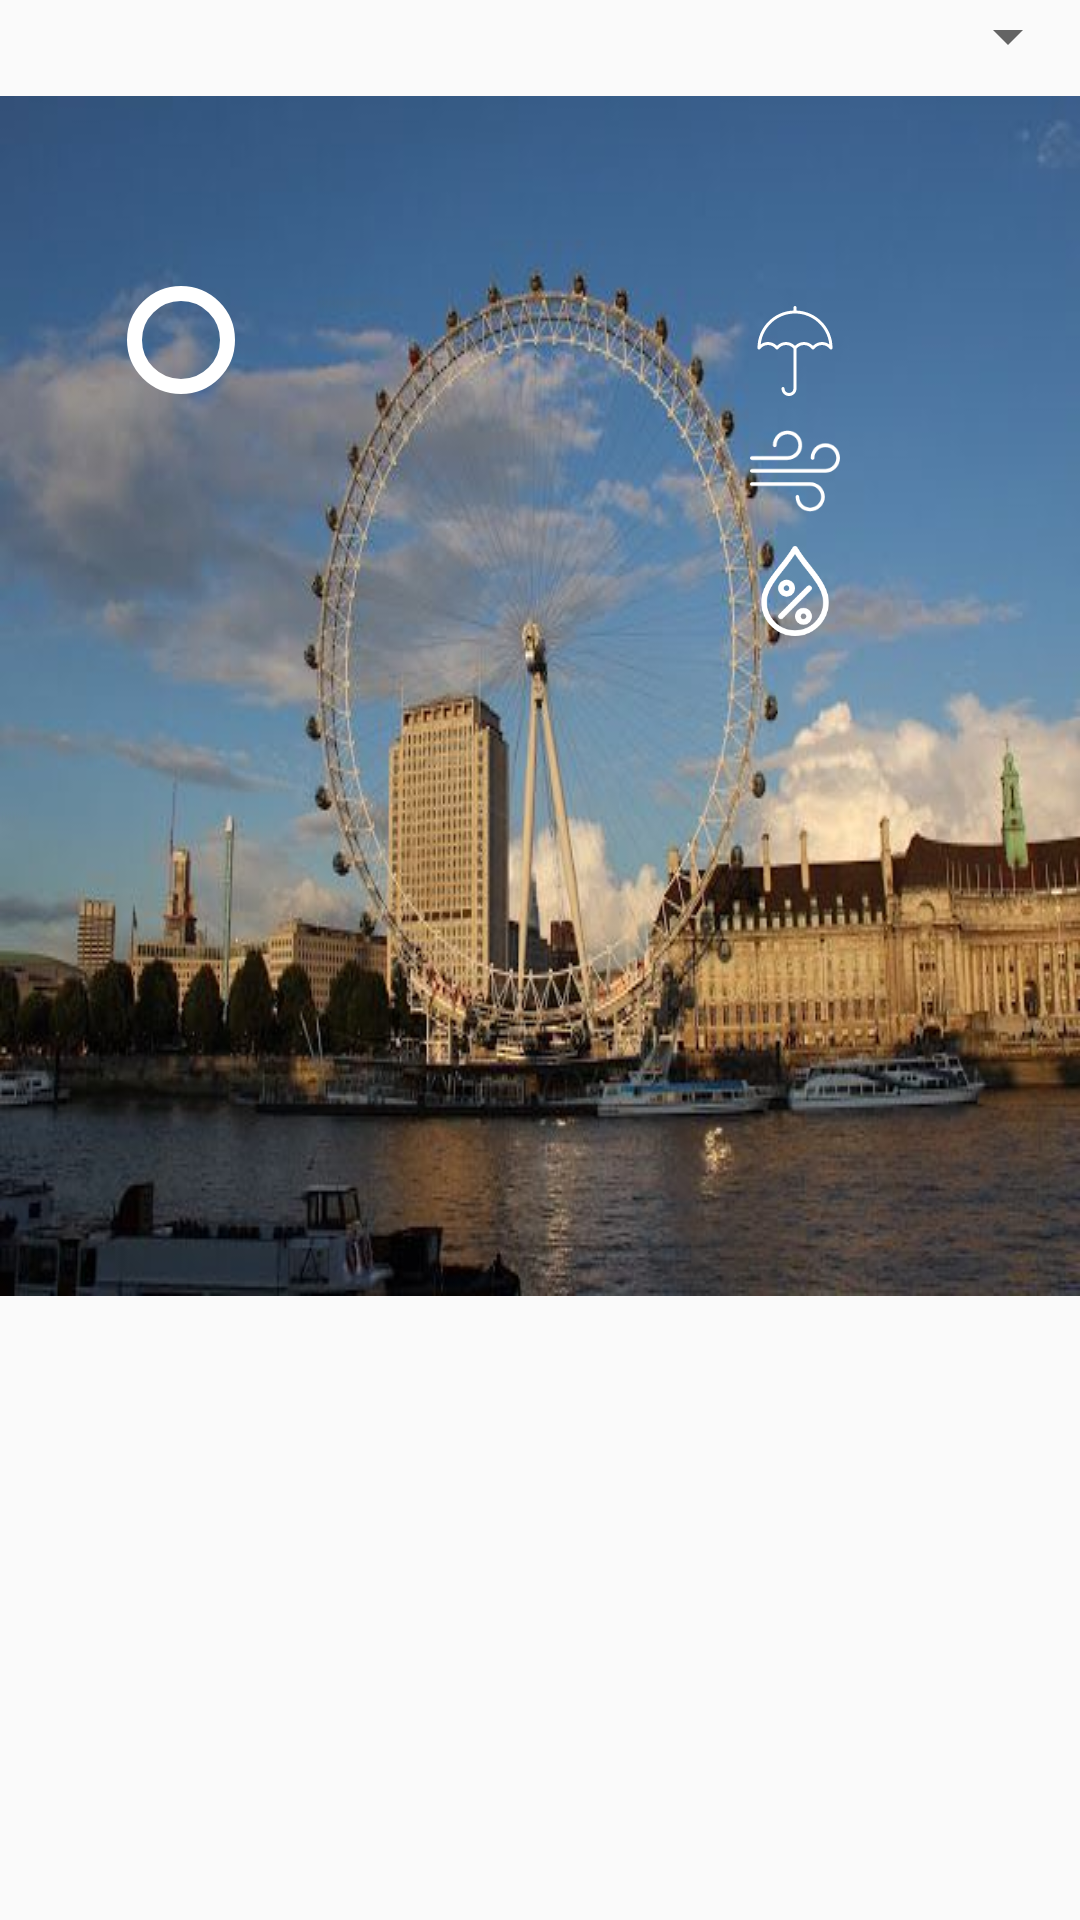

Icon click points for this 1080x1920 phone screenshot, format (x,y):
humidity: (795,591)
rain: (795,351)
wind: (795,473)
